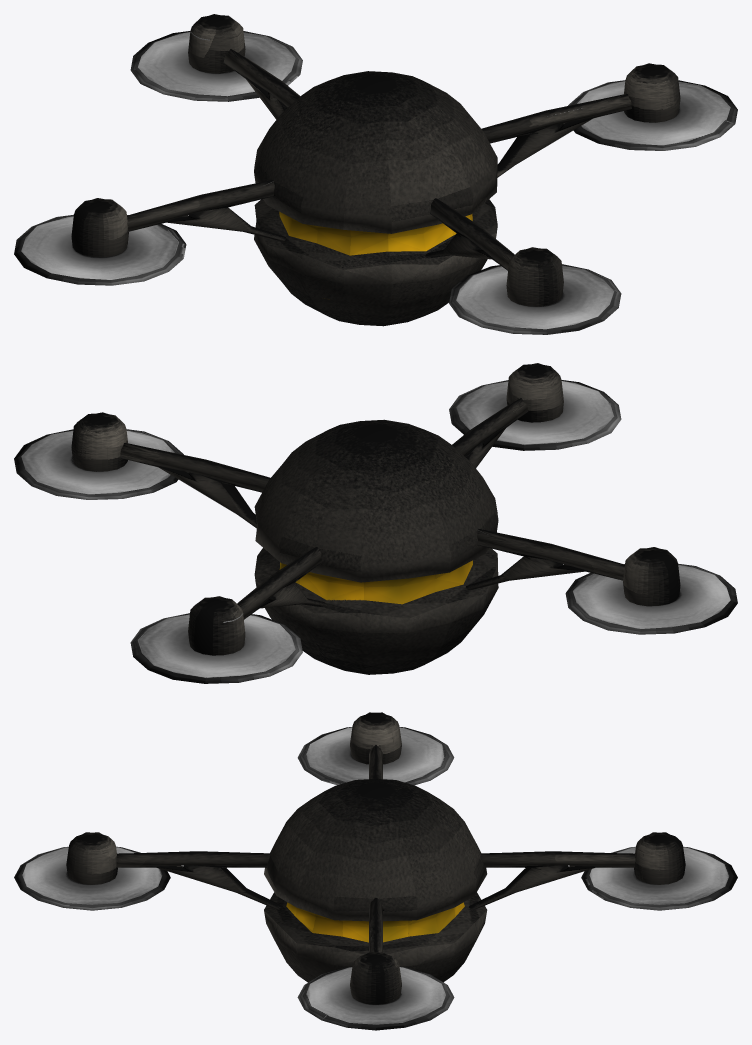
The model's file is Robo2.fbx.
3 renders of one model, top to bottom at view 1: azimuth 30°, elevation 25°; view 2: azimuth 150°, elevation 25°; view 3: azimuth 270°, elevation 25°, orthographic. The views are drawn at different scales.
Visible parts, largest first — view 1: Cube, Sphere; view 2: Cube, Sphere; view 3: Cube, Sphere.
Boxes of the visible parts, x1,y1,x2,y2 form: Cube: (14, 14, 737, 334); Sphere: (254, 71, 497, 326); Cube: (14, 363, 737, 683); Sphere: (254, 419, 498, 674); Cube: (14, 712, 737, 1030); Sphere: (264, 779, 487, 982).
Bounding box in the file's own units: 6.38 × 2 × 6.38.
Materials: 2 (2 with a texture image).
